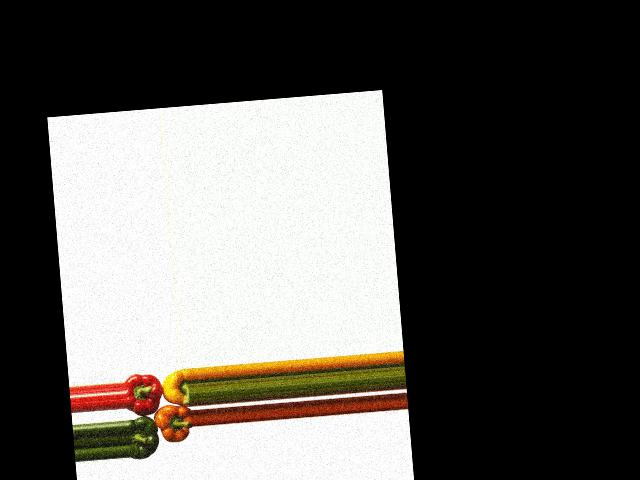bell_pepper: (158, 367, 191, 410)
